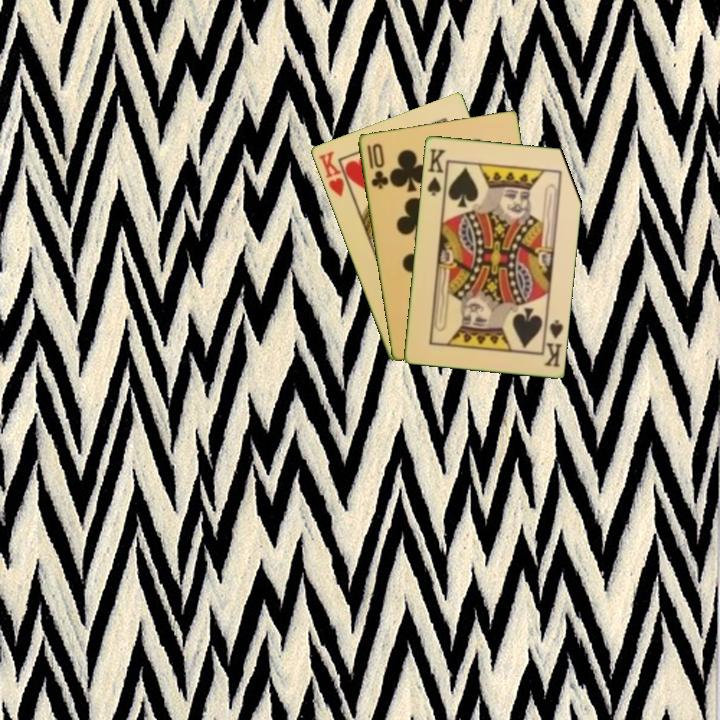10c: (363, 139, 390, 192)
Kh: (314, 147, 354, 199)
Ks: (539, 314, 566, 369), (424, 145, 449, 199)
